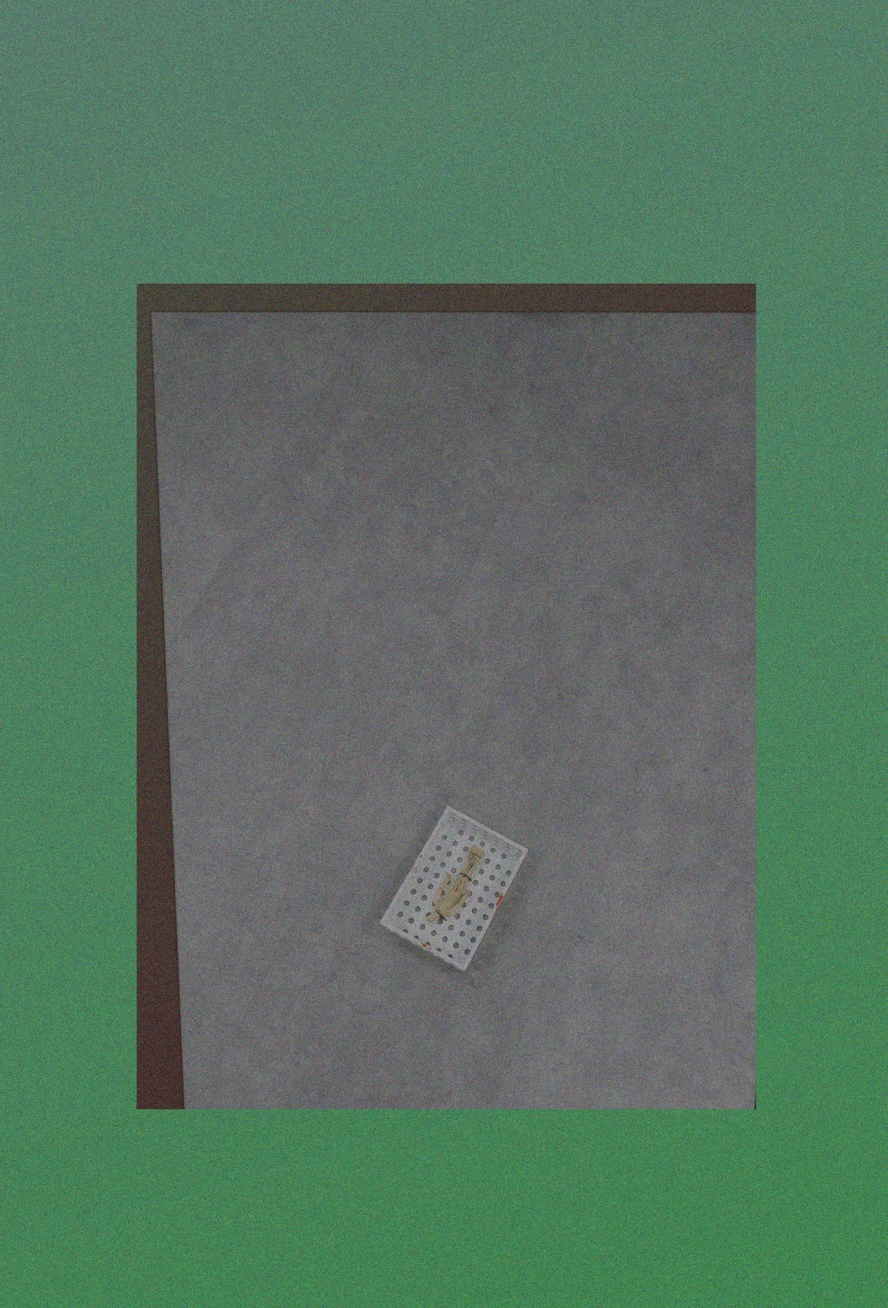basket: (372, 795, 536, 983)
mannequin: (425, 837, 484, 932)
